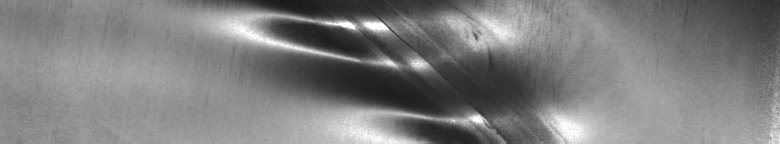ke: (225, 4, 509, 136)
